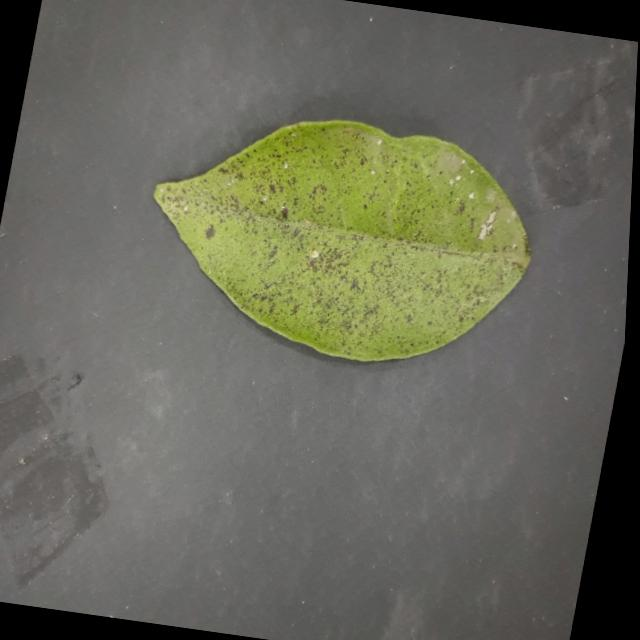greasy_spot: (154, 122, 530, 361)
